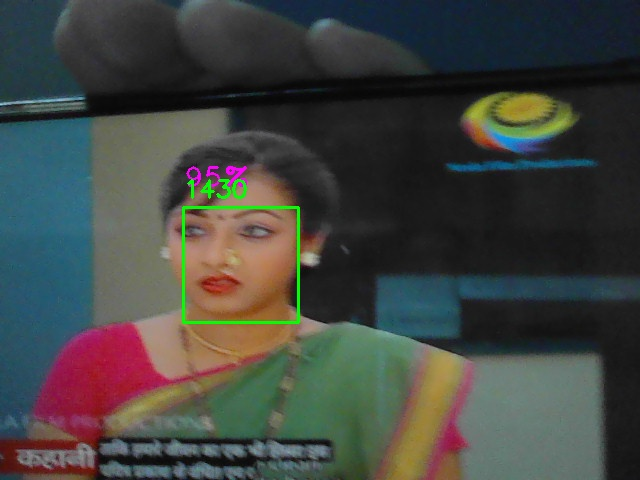fake: (183, 207, 299, 323)
